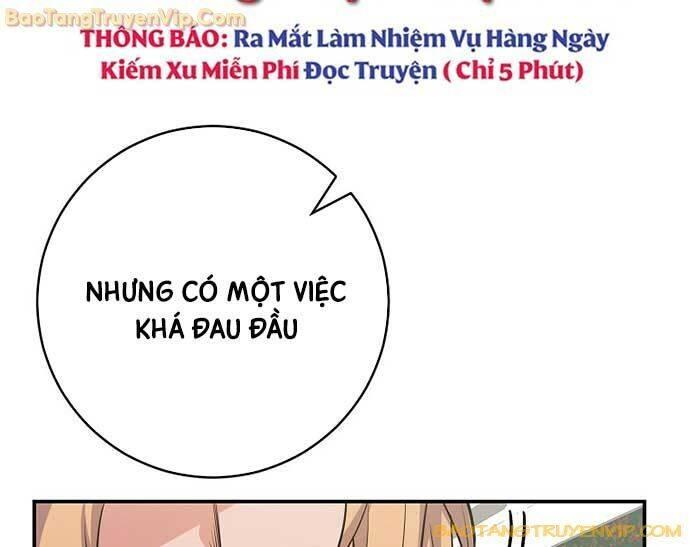quangcao: (78, 16, 612, 84)
